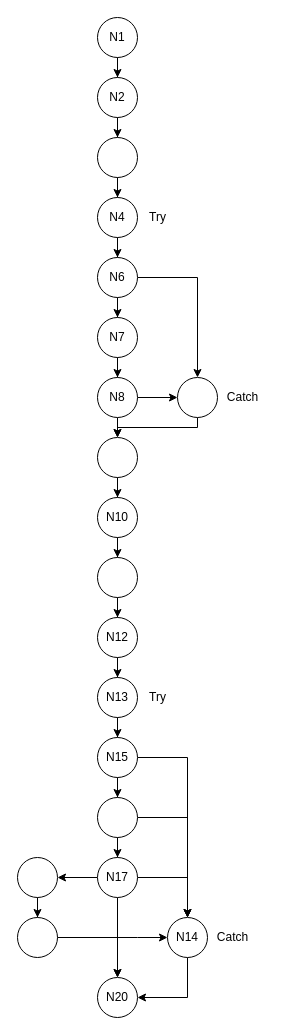
Image size: 285x1035. Some labels were removed from this diagram. Each missing label, with the box of its shape:
N11: (96, 556, 138, 598)
N16: (96, 796, 138, 838)
N18: (16, 856, 58, 898)
N19: (16, 916, 58, 958)
N3: (96, 136, 138, 178)
N5: (176, 376, 218, 418)
N9: (96, 436, 138, 478)
